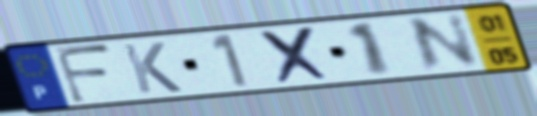1: (346, 19, 394, 79), (208, 31, 252, 90)
F: (50, 42, 117, 105)
K: (119, 40, 186, 95)
N: (405, 11, 484, 75)
X: (256, 24, 337, 87)
